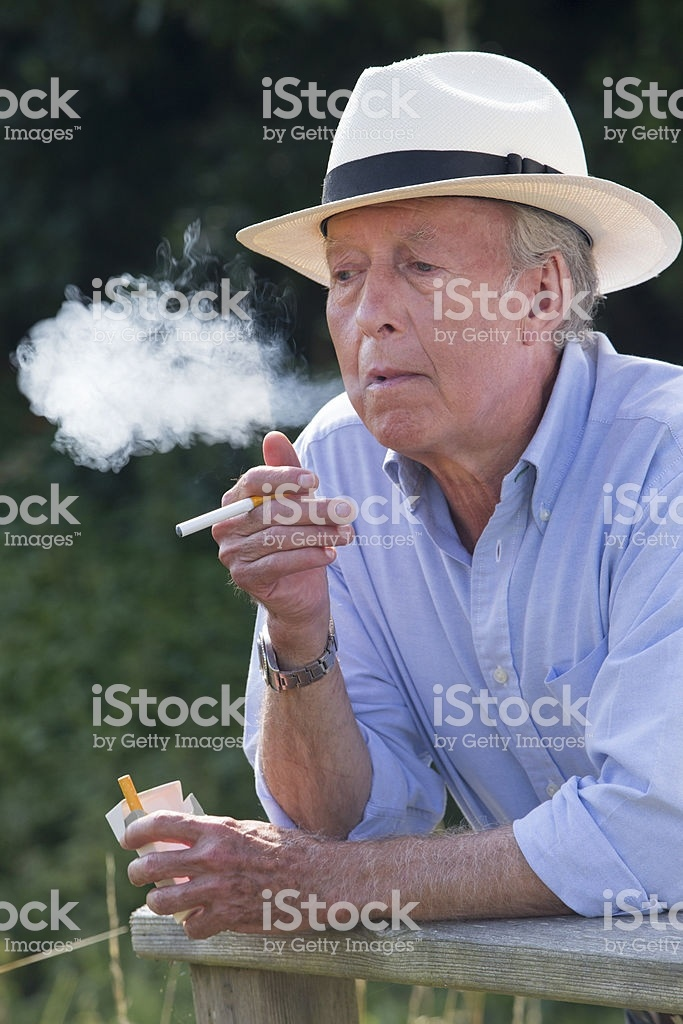sigaretta: (166, 495, 284, 542)
